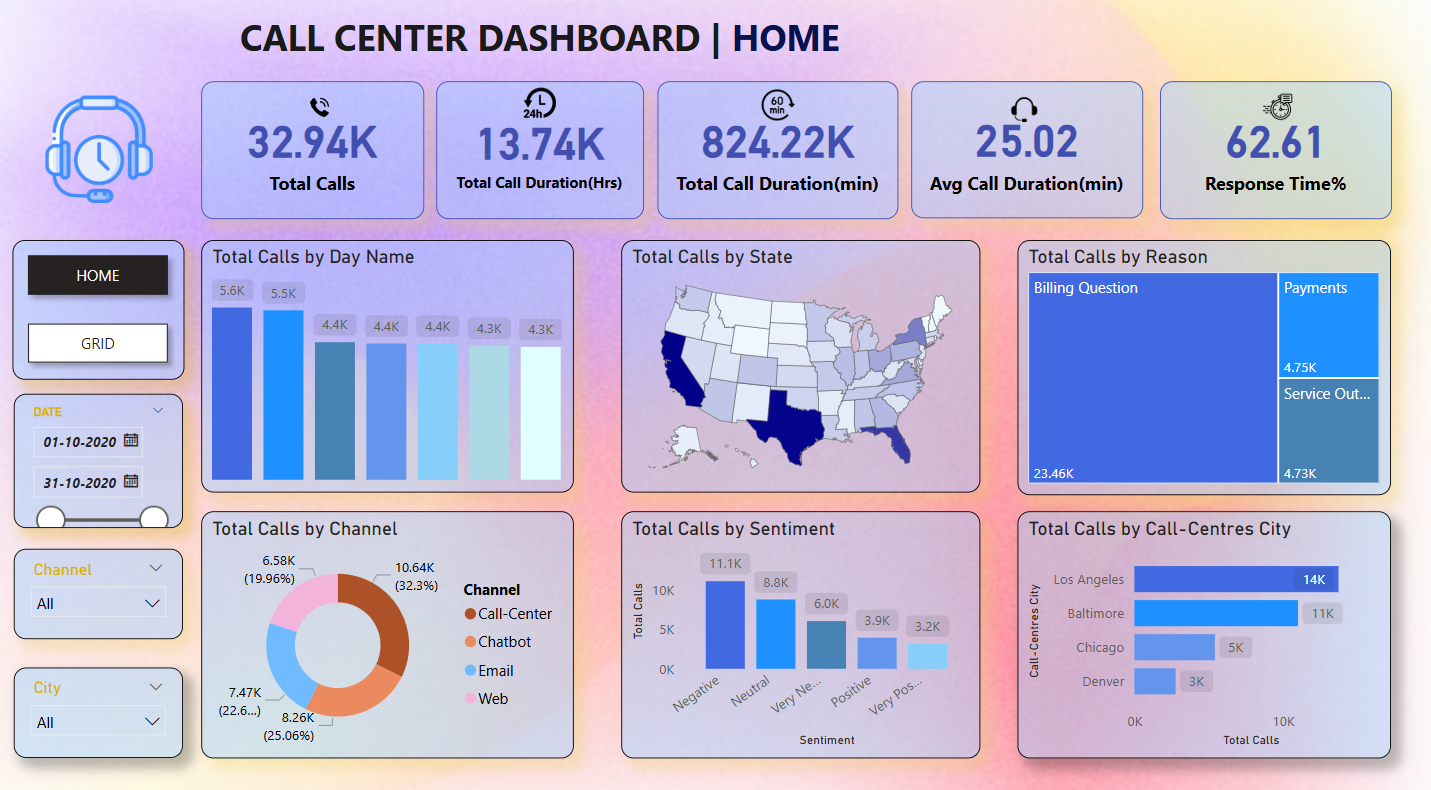

This screenshot's page, from the dashboard's own definition file:
{"tool":"powerbi","page":{"name":"HOME","canvas":[1280,720],"ordinal":0},"visuals":[{"type":"card","fields":{"Values":["CountNonNull(Call Center_Call Center.Call Duration In Minutes)"]},"box":[179.8,81,199,123.5],"z":0},{"type":"card","fields":{"Values":["Call Center_Call Center.call duration hr"]},"box":[389.7,81,185.2,123.5],"z":1000},{"type":"card","fields":{"Values":["Sum(Call Center_Call Center.Call Duration In Minutes)"]},"box":[587.3,81,215.4,123.5],"z":2000},{"type":"card","fields":{"Values":["Avg(Call Center_Call Center.Call Duration In Minutes)"]},"box":[813.7,81,207.2,122.1],"z":3000},{"type":"shapeMap","fields":{"Category":["Call Center_Call Center.State"],"Value":["Call Center_Call Center.Total Calls"]},"box":[554.7,223.3,320.9,225.6],"z":4000},{"type":"clusteredColumnChart","fields":{"Category":["Call Center_Call Center.Day Name"],"Y":["Call Center_Call Center.Total Calls"]},"box":[180.2,223.3,332.6,225.6],"z":5000},{"type":"donutChart","fields":{"Y":["Call Center_Call Center.Total Calls"],"Category":["Call Center_Call Center.Channel"]},"box":[180.2,465.1,332.6,220.9],"z":6000},{"type":"clusteredColumnChart","fields":{"Y":["Call Center_Call Center.Total Calls"],"Category":["Call Center_Call Center.Sentiment"]},"box":[554.7,465.1,320.9,220.9],"z":7000},{"type":"clusteredBarChart","fields":{"Category":["Call Center_Call Center.Call-Centres City"],"Y":["Call Center_Call Center.Total Calls"]},"box":[909.3,465.1,333.7,220.9],"z":8000},{"type":"treemap","fields":{"Group":["Call Center_Call Center.Reason"],"Values":["Call Center_Call Center.Total Calls"]},"box":[909.3,223.3,333.7,227.9],"z":9000},{"type":"slicer","fields":{"Values":["Call Center_Call Center.Channel"]},"box":[12.3,499.5,150.9,81],"z":10000},{"type":"slicer","fields":{"Values":["Call Center_Call Center.City"]},"box":[12.3,605.1,150.9,81],"z":11000},{"type":"card","fields":{"Values":["Call Center_Call Center.Response Time%"]},"box":[1036,81,207.2,123.5],"z":12000},{"type":"textbox","box":[201.7,15.1,601,56.3],"z":13000},{"type":"image","box":[259.3,90.6,52.1,28.8],"z":14000},{"type":"image","box":[462.4,81,39.8,38.4],"z":15000},{"type":"image","box":[675.1,81,39.8,42.5],"z":16000},{"type":"image","box":[891.9,90.6,45.3,32.9],"z":17000},{"type":"image","box":[1118.4,86.4,45.3,37],"z":18000},{"type":"image","box":[36,81.4,105.8,122.1],"z":19000},{"type":"pageNavigator","box":[11.6,223.3,153.5,124.4],"z":20000},{"type":"slicer","fields":{"Values":["Call Center_Call Center.Call Timestamp"]},"box":[12.8,360.5,151.2,119.8],"z":21000}]}

Visuals, with their boxes in screenshot pixels (x1, y1, x2, y2), scaled from the page's 1280x720 canvas onto the 1431x790 screenshot:
card - CountNonNull(Call Center_Call Center.Call Duration In Minutes): box=[201, 89, 423, 224]
card - Call Center_Call Center.call duration hr: box=[436, 89, 643, 224]
card - Sum(Call Center_Call Center.Call Duration In Minutes): box=[657, 89, 897, 224]
card - Avg(Call Center_Call Center.Call Duration In Minutes): box=[910, 89, 1141, 223]
shapeMap - Call Center_Call Center.State x Call Center_Call Center.Total Calls: box=[620, 245, 979, 493]
clusteredColumnChart - Call Center_Call Center.Day Name x Call Center_Call Center.Total Calls: box=[201, 245, 573, 493]
donutChart - Call Center_Call Center.Total Calls x Call Center_Call Center.Channel: box=[201, 510, 573, 753]
clusteredColumnChart - Call Center_Call Center.Total Calls x Call Center_Call Center.Sentiment: box=[620, 510, 979, 753]
clusteredBarChart - Call Center_Call Center.Call-Centres City x Call Center_Call Center.Total Calls: box=[1017, 510, 1390, 753]
treemap - Call Center_Call Center.Reason x Call Center_Call Center.Total Calls: box=[1017, 245, 1390, 495]
slicer - Call Center_Call Center.Channel: box=[14, 548, 182, 637]
slicer - Call Center_Call Center.City: box=[14, 664, 182, 753]
card - Call Center_Call Center.Response Time%: box=[1158, 89, 1390, 224]
textbox: box=[225, 17, 897, 78]
image: box=[290, 99, 348, 131]
image: box=[517, 89, 561, 131]
image: box=[755, 89, 799, 136]
image: box=[997, 99, 1048, 136]
image: box=[1250, 95, 1301, 135]
image: box=[40, 89, 159, 223]
pageNavigator: box=[13, 245, 185, 382]
slicer - Call Center_Call Center.Call Timestamp: box=[14, 396, 183, 527]
